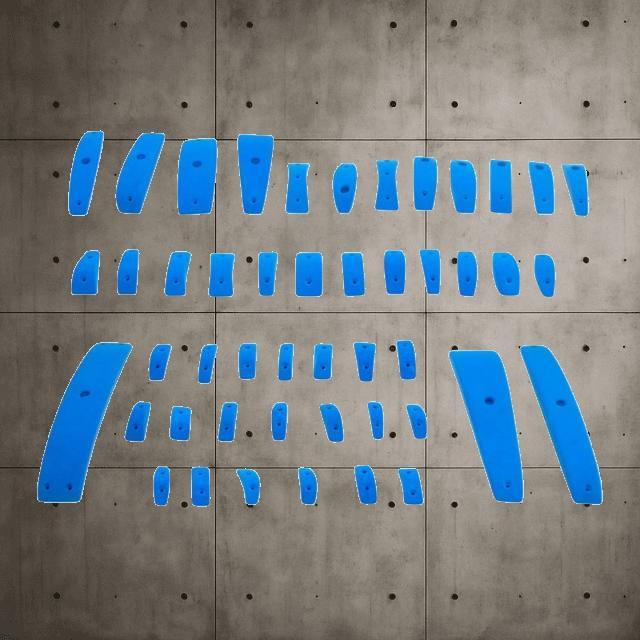Pinch: (36, 343, 132, 502), (520, 344, 602, 504), (448, 348, 524, 502), (117, 132, 165, 214), (178, 139, 216, 215), (238, 134, 274, 214), (70, 131, 104, 215), (563, 164, 589, 216), (529, 162, 555, 214), (450, 161, 476, 213), (414, 158, 438, 212), (491, 160, 514, 213), (375, 161, 399, 211), (71, 252, 99, 294), (286, 164, 310, 212), (493, 252, 519, 296), (296, 254, 322, 296), (166, 252, 190, 296), (334, 164, 356, 212), (124, 402, 150, 442), (210, 254, 234, 296), (342, 254, 366, 296), (117, 250, 139, 294), (421, 250, 442, 294), (384, 252, 406, 294), (458, 252, 478, 296), (321, 404, 344, 442), (399, 468, 423, 504), (535, 254, 555, 296), (354, 343, 376, 381), (397, 340, 417, 380), (218, 402, 238, 442), (259, 252, 277, 296), (355, 466, 377, 502), (149, 345, 171, 381), (237, 470, 260, 504), (198, 346, 218, 382), (298, 468, 318, 504), (313, 344, 333, 380), (192, 467, 210, 505), (407, 405, 427, 439), (170, 407, 190, 441), (239, 344, 257, 380), (154, 466, 170, 506), (272, 404, 288, 441), (368, 403, 384, 439), (278, 344, 294, 380)
